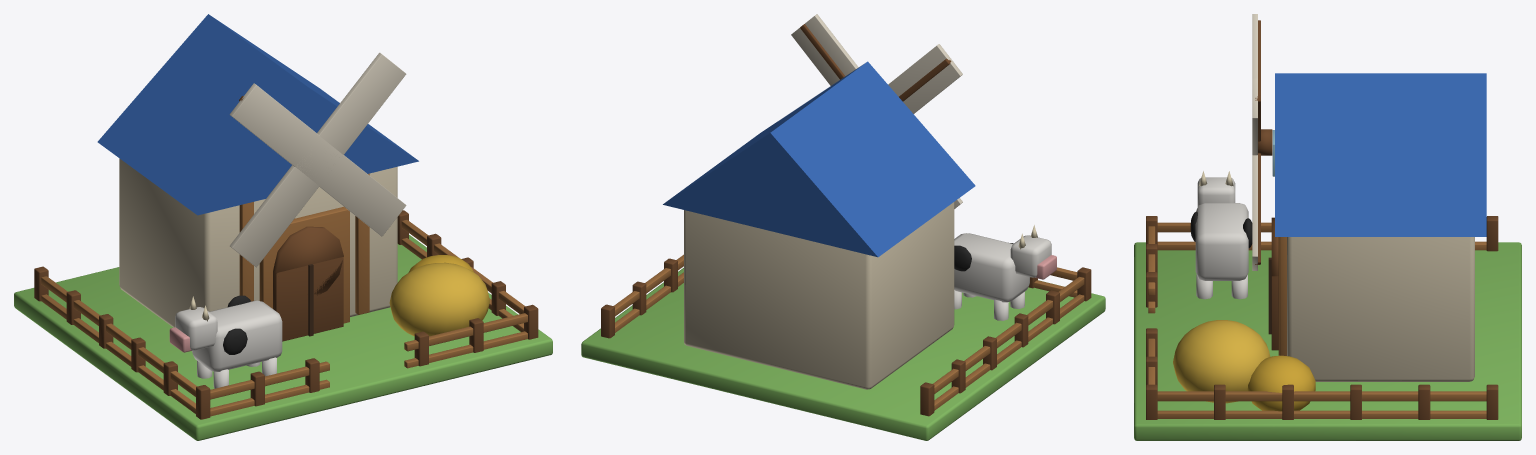
Rendered from k_ranch.glb.
The picture shows the model from 3 angles, left to right: view 1: azimuth 30°, elevation 25°; view 2: azimuth 150°, elevation 25°; view 3: azimuth 270°, elevation 25°; orthographic projection. The views are drawn at different scales.
Parts seen in each view (by area): view 1: SK_k_ranch; view 2: SK_k_ranch; view 3: SK_k_ranch.
Boxes of the visible parts, x1,y1,x2,y2 form: SK_k_ranch: (14,14,552,440); SK_k_ranch: (581,14,1105,440); SK_k_ranch: (1134,14,1521,440).
Size of the model in its own units: 3.7 by 2.85 by 3.3.
